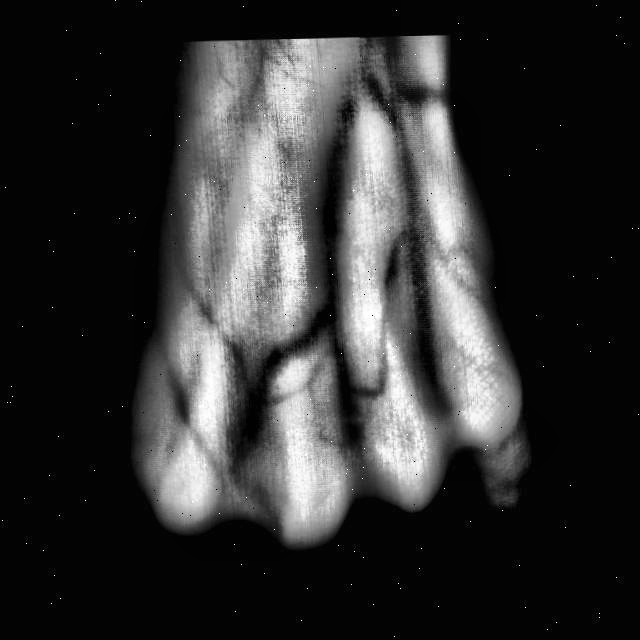Vein: (306, 113, 363, 312)
